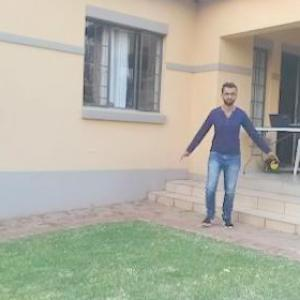land: (173, 86, 266, 235)
